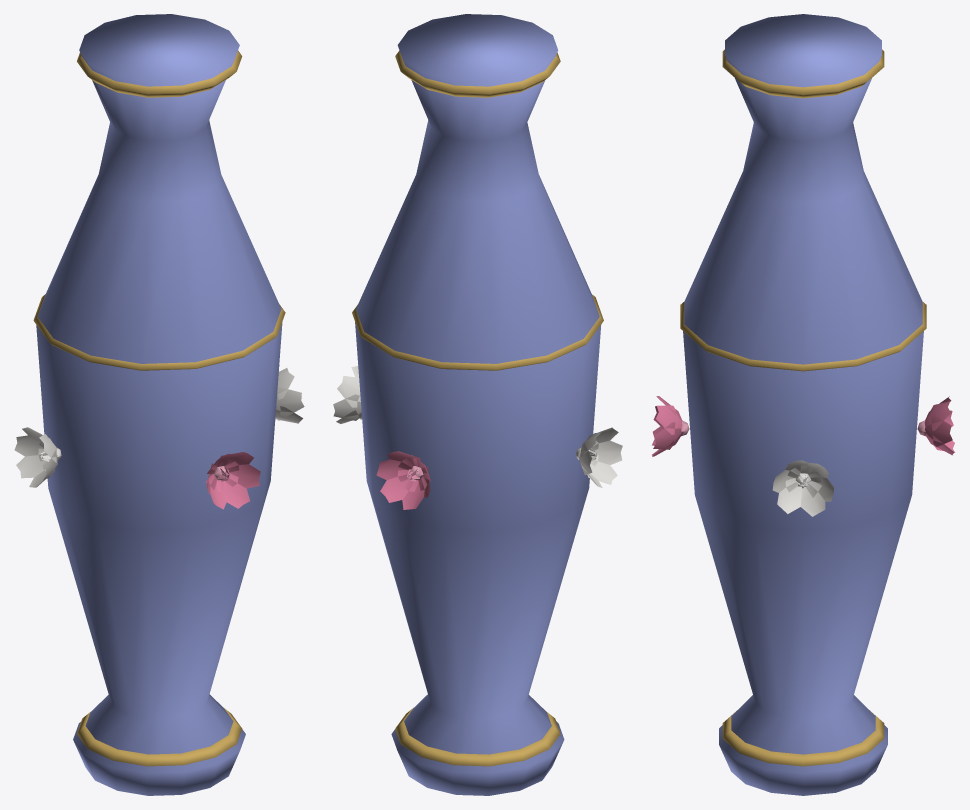
The model's file is vase_tall.glb.
3 renders of one model, left to right at view 1: azimuth 30°, elevation 25°; view 2: azimuth 150°, elevation 25°; view 3: azimuth 270°, elevation 25°, orthographic.
Parts seen in each view (by area): view 1: vase_tall; view 2: vase_tall; view 3: vase_tall.
Boxes of the visible parts, x1,y1,x2,y2 form: vase_tall: (14,14,304,795); vase_tall: (333,14,622,795); vase_tall: (652,14,955,795).
Size of what is drawn, in the model's own units: 0.5 by 1.3 by 0.5.
